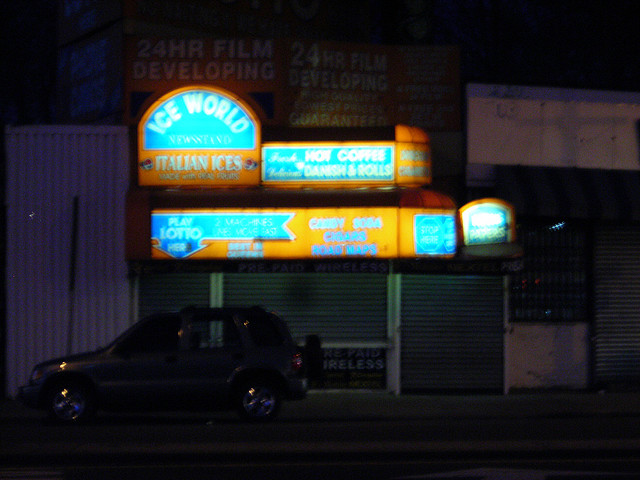car: (12, 299, 317, 433)
